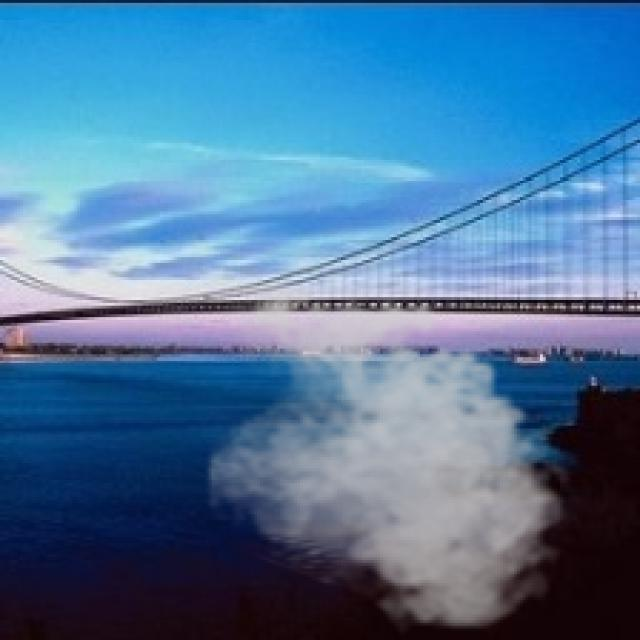smoke: (206, 277, 577, 637)
